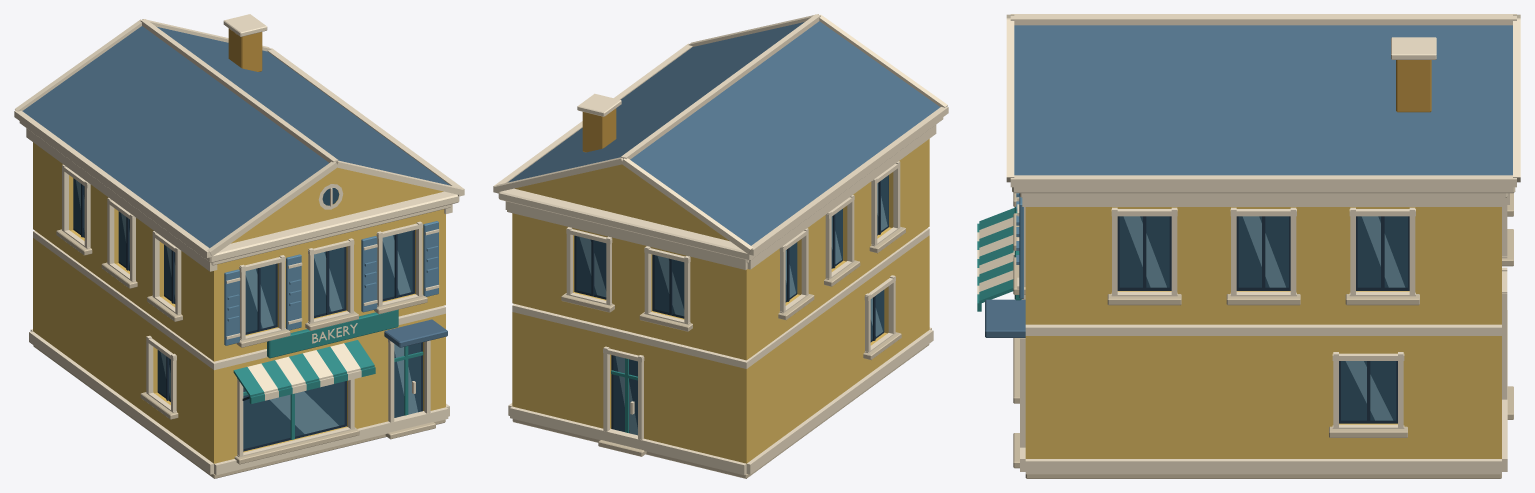
Rendered from neighborhood_bakery.glb.
The picture shows the model from 3 angles, left to right: view 1: azimuth 30°, elevation 25°; view 2: azimuth 150°, elevation 25°; view 3: azimuth 270°, elevation 25°; orthographic projection. The views are drawn at different scales.
Parts seen in each view (by area): view 1: NeighborhoodBakery_StaticMesh; view 2: NeighborhoodBakery_StaticMesh; view 3: NeighborhoodBakery_StaticMesh.
Boxes of the visible parts, x1=… form: NeighborhoodBakery_StaticMesh: x1=14, y1=14, x2=464, y2=478; NeighborhoodBakery_StaticMesh: x1=493, y1=14, x2=948, y2=478; NeighborhoodBakery_StaticMesh: x1=977, y1=14, x2=1520, y2=478.
Size of the model in its own units: 7.55 by 8.52 by 10.5.
